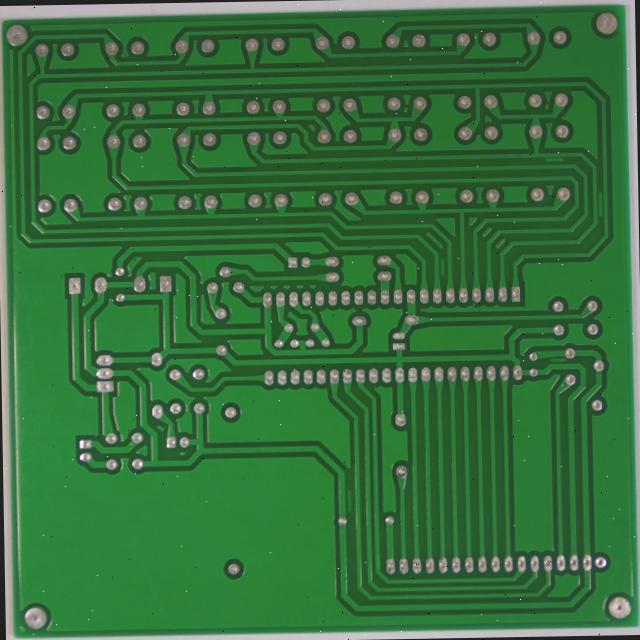spurious_copper: (384, 467, 404, 498), (614, 314, 639, 332), (491, 205, 507, 233), (608, 90, 636, 105)
